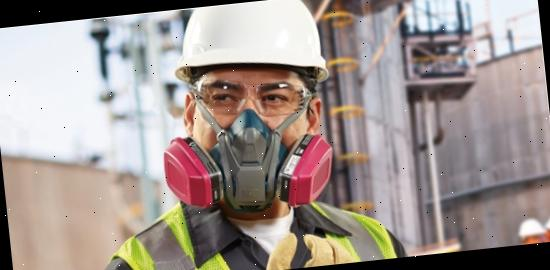helmet: (166, 0, 332, 92)
wear: (92, 193, 415, 270)
